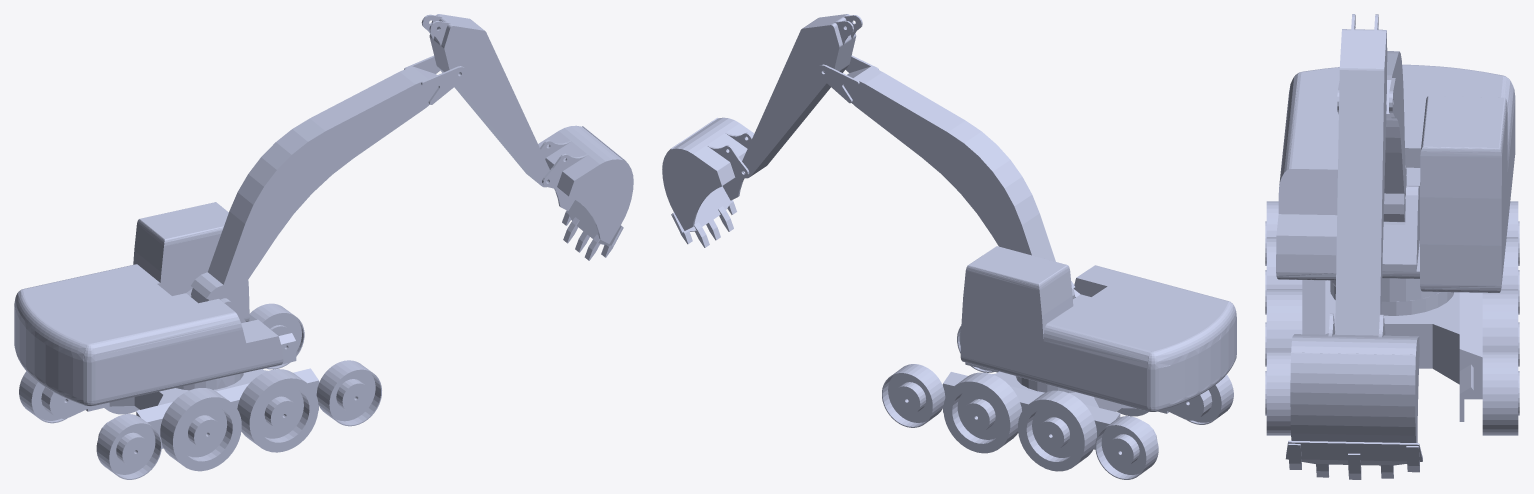
The picture shows the model from 3 angles, left to right: view 1: azimuth 30°, elevation 25°; view 2: azimuth 150°, elevation 25°; view 3: azimuth 270°, elevation 25°; orthographic projection. The views are drawn at different scales.
Visible parts, largest first — view 1: base, boom, bucket, stick, right_1, right_2, car_body, right_3, right_rear, left_3, left_rear; view 2: base, boom, bucket, stick, left_1, left_2, car_body, left_rear, left_3, right_rear; view 3: base, bucket, stick, car_body, boom, left_3, left_2, right_2, right_3, right_1, left_1, right_rear (+1 smaller).
Part boxes in pixels (<box>): base: <box>14,202,283,406</box>; boom: <box>191,55,466,311</box>; bucket: <box>538,125,633,260</box>; stick: <box>421,14,549,187</box>; right_1: <box>160,388,241,471</box>; right_2: <box>237,369,318,452</box>; car_body: <box>41,333,319,448</box>; right_3: <box>316,360,381,426</box>; right_rear: <box>96,414,161,479</box>; left_3: <box>248,303,304,369</box>; left_rear: <box>19,371,67,423</box>; base: <box>960,246,1236,411</box>; boom: <box>817,55,1074,298</box>; bucket: <box>662,117,754,247</box>; stick: <box>742,14,862,178</box>; left_1: <box>1018,390,1096,471</box>; left_2: <box>943,372,1021,453</box>; car_body: <box>942,362,1212,449</box>; left_rear: <box>1095,416,1158,479</box>; left_3: <box>882,364,945,427</box>; right_rear: <box>1187,374,1233,424</box>; base: <box>1276,64,1515,301</box>; bucket: <box>1285,313,1422,479</box>; stick: <box>1335,14,1387,335</box>; car_body: <box>1302,280,1482,421</box>; boom: <box>1337,51,1406,222</box>; left_3: <box>1482,351,1519,435</box>; left_2: <box>1482,289,1519,366</box>; right_2: <box>1265,289,1302,366</box>; right_3: <box>1265,351,1291,435</box>; right_1: <box>1265,237,1302,314</box>; left_1: <box>1501,237,1519,314</box>; right_rear: <box>1265,201,1278,265</box>.
Bounding box in the file's own units: 0.5855 × 0.165 × 0.3611.
